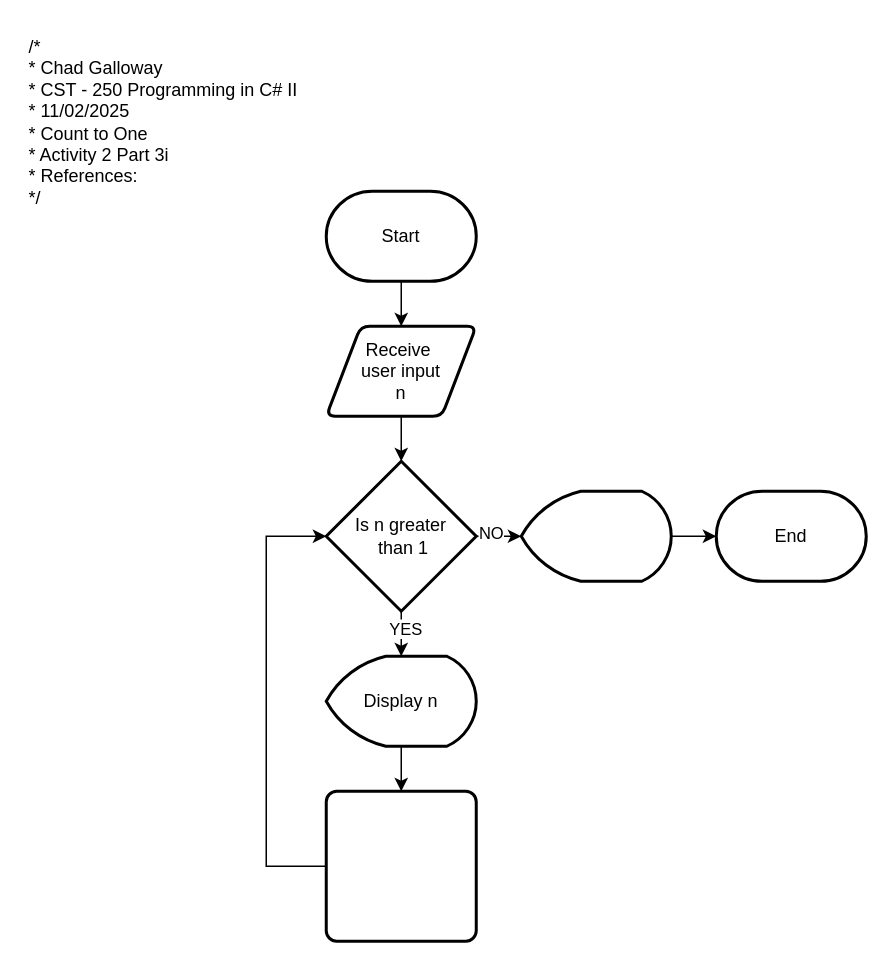
This 893x968 diagram has some shape labels left out. Each missing label, with the centre of its shape:
n = n - 1: the point at 400,865
n is equal to or less than 1: the point at 595,535
